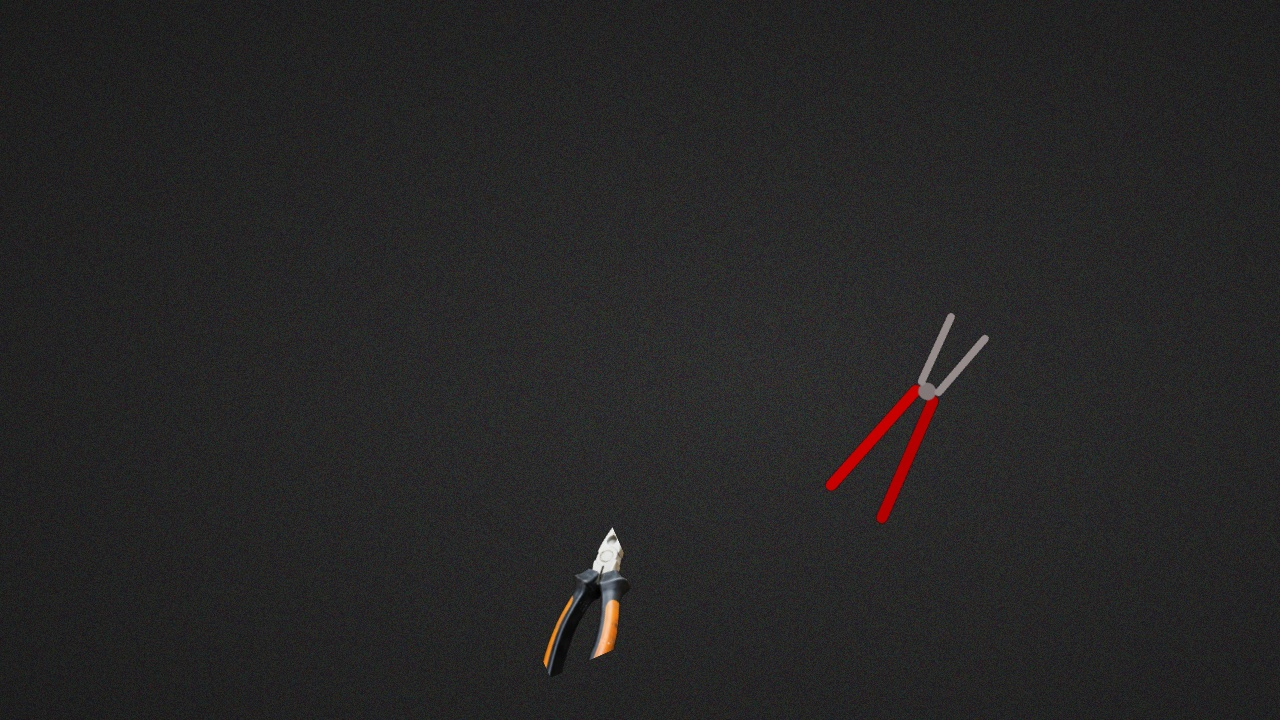pliers: (823, 310, 991, 525), (541, 525, 632, 678)
